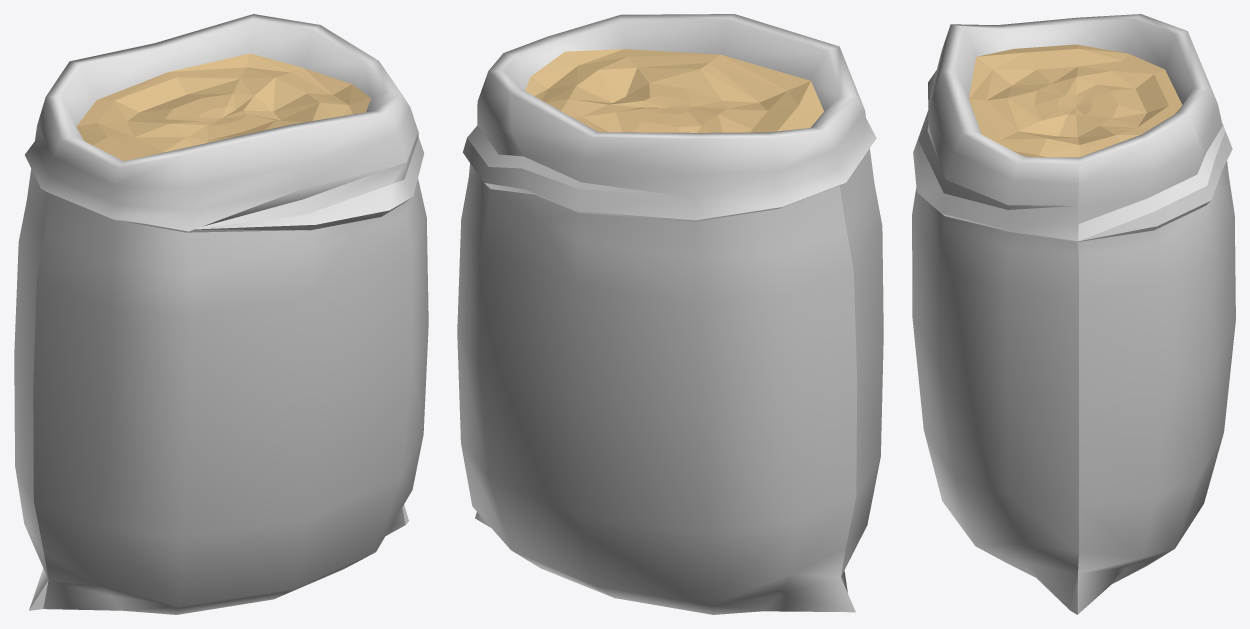
The model's file is PT_Sack_05.fbx.
The picture shows the model from 3 angles, left to right: view 1: azimuth 30°, elevation 25°; view 2: azimuth 150°, elevation 25°; view 3: azimuth 270°, elevation 25°; orthographic projection. The views are drawn at different scales.
Parts seen in each view (by area): view 1: PT_Sack_05; view 2: PT_Sack_05; view 3: PT_Sack_05.
Boxes of the visible parts, bbox=[...] form: PT_Sack_05: bbox=[14, 14, 428, 614]; PT_Sack_05: bbox=[457, 14, 883, 614]; PT_Sack_05: bbox=[912, 14, 1235, 614].
Size of the model in its own units: 51.54 by 64.97 by 40.78.
1 material, 1 textured.
